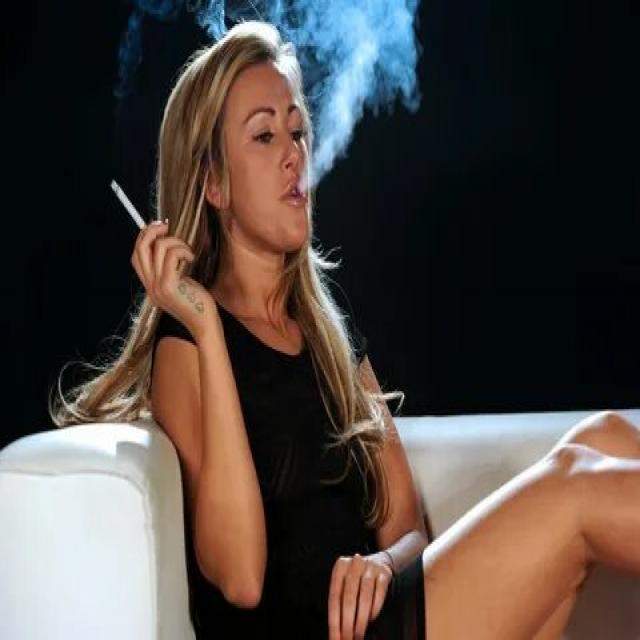smoke: (109, 172, 152, 236)
